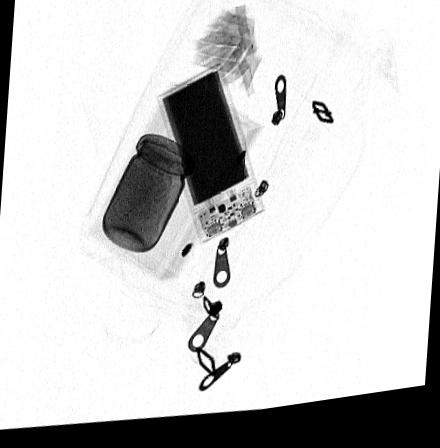Powerbank: (155, 67, 266, 251)
